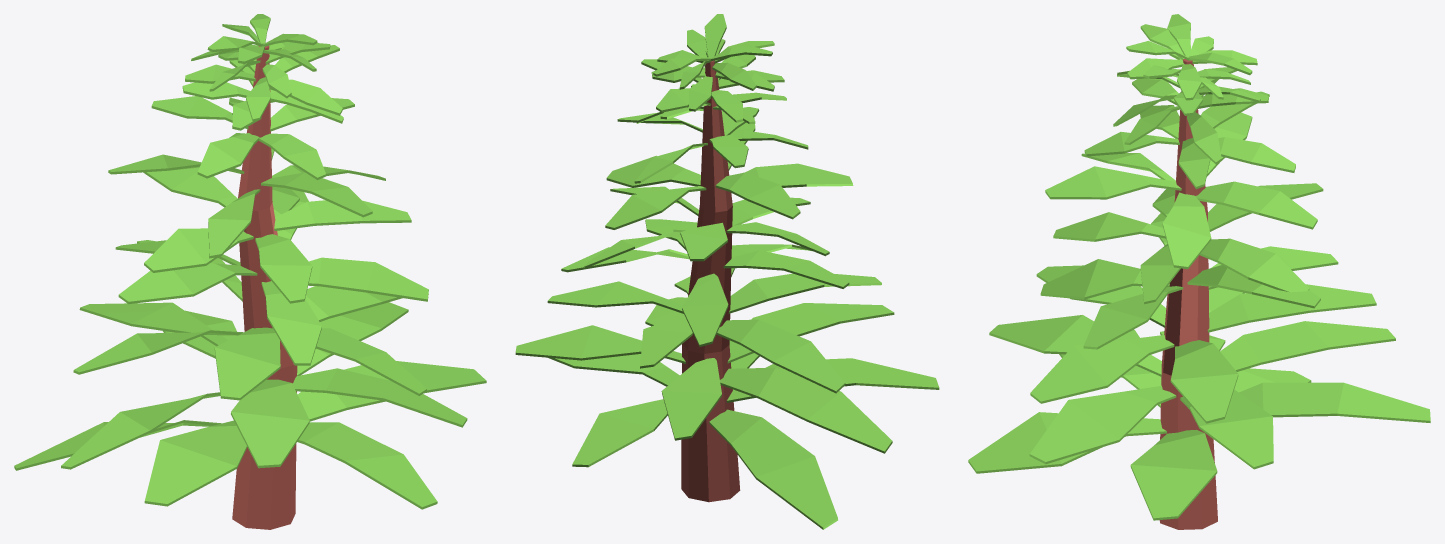
Rendered from Tree1_summer.FBX.
3 views of the same model, side by side, from view 1: azimuth 30°, elevation 25°; view 2: azimuth 150°, elevation 25°; view 3: azimuth 270°, elevation 25° (orthographic). The views are drawn at different scales.
Visible parts, largest first — view 1: Tree 1 summer; view 2: Tree 1 summer; view 3: Tree 1 summer.
Part boxes in pixels (bbox=[...]): Tree 1 summer: bbox=[14, 14, 486, 529]; Tree 1 summer: bbox=[515, 14, 939, 529]; Tree 1 summer: bbox=[968, 14, 1430, 529].
Bounding box in the file's own units: 5.17 × 6.06 × 5.3.
